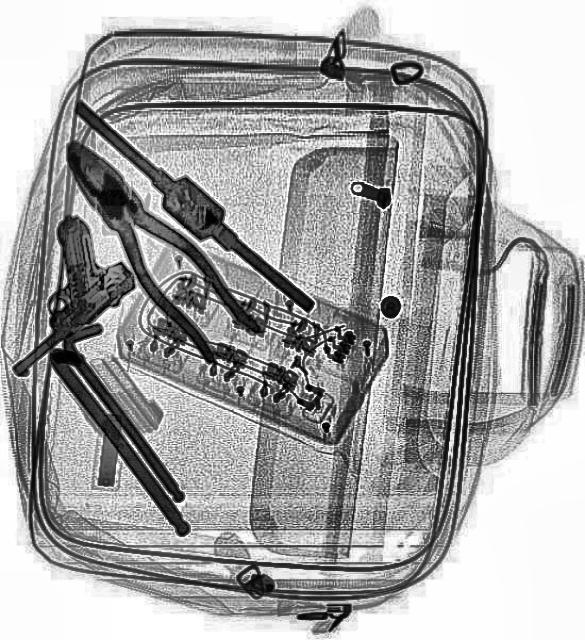Gun: (4, 208, 150, 400)
Pliers: (37, 122, 263, 372)
